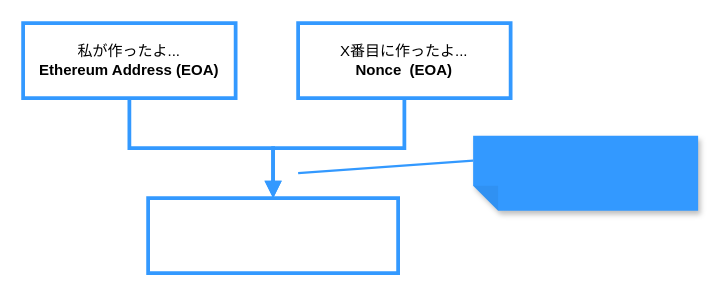
Some shapes in this 728 by 296 pixel diagram are drawn without their labels. The centre of each missing label's shape, as x and y in pixels:
ハッシュ関数 (Keccak-256): [586,174]
ユニークなアドレスになるよ... Ethereum Address (CA): [272,235]
